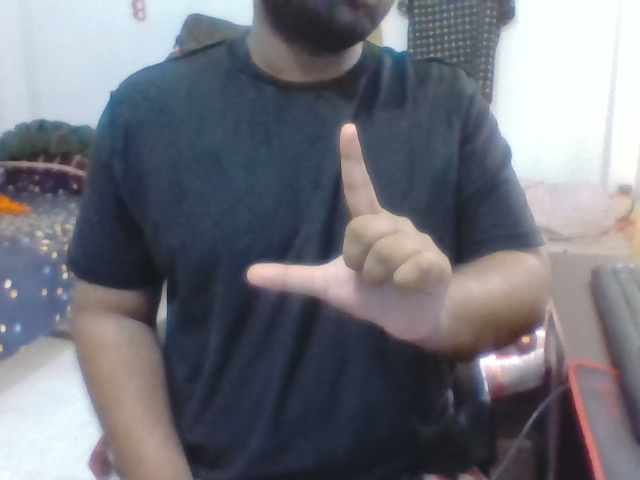L: (234, 117, 465, 366)
